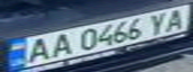0: (75, 26, 100, 52)
4: (97, 21, 118, 48)
6: (127, 16, 151, 42), (112, 18, 133, 44)
A: (18, 36, 57, 64), (160, 7, 193, 33), (45, 32, 78, 58)
Y: (142, 10, 175, 36)
